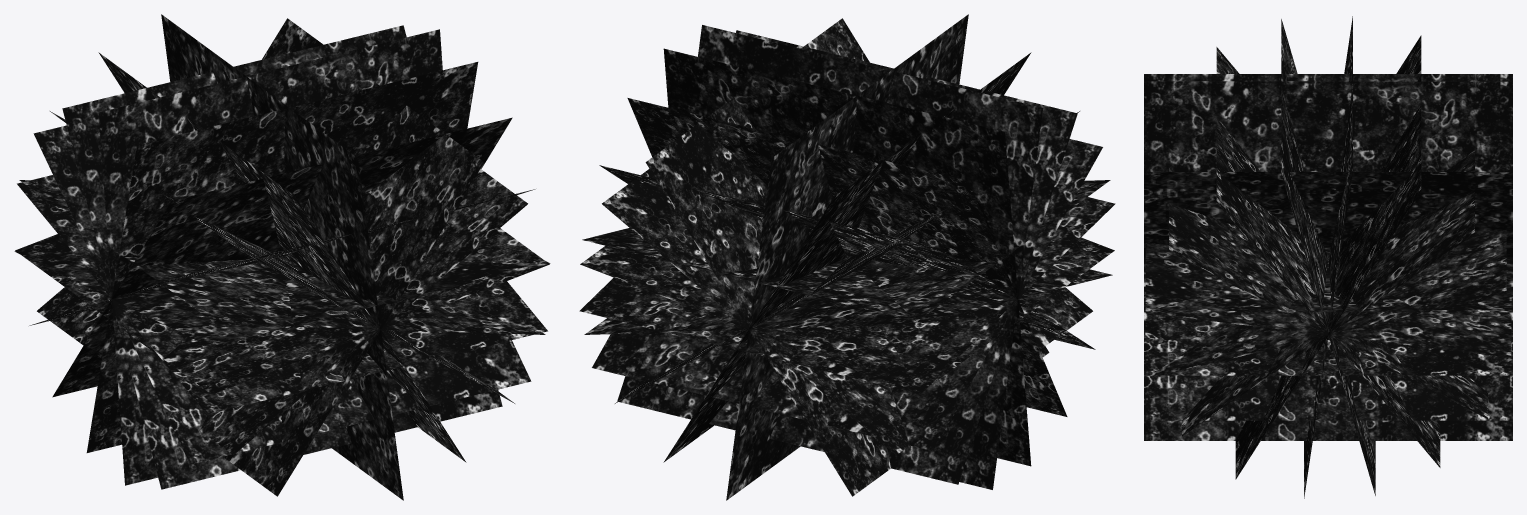
File: MagicalOrb.fbx
The picture shows the model from 3 angles, left to right: view 1: azimuth 30°, elevation 25°; view 2: azimuth 150°, elevation 25°; view 3: azimuth 270°, elevation 25°; orthographic projection. The views are drawn at different scales.
Visible parts, largest first — view 1: Plane, Plane.001; view 2: Plane, Plane.001; view 3: Plane.001, Plane.
Part boxes in pixels (x1=…): Plane: x1=14, y1=25, x2=550, y2=489; Plane.001: x1=15, y1=14, x2=549, y2=500; Plane: x1=579, y1=25, x2=1115, y2=489; Plane.001: x1=580, y1=14, x2=1114, y2=500; Plane.001: x1=1144, y1=74, x2=1512, y2=440; Plane: x1=1145, y1=16, x2=1511, y2=498.
Bounding box in the file's own units: 200 × 198 × 200.
